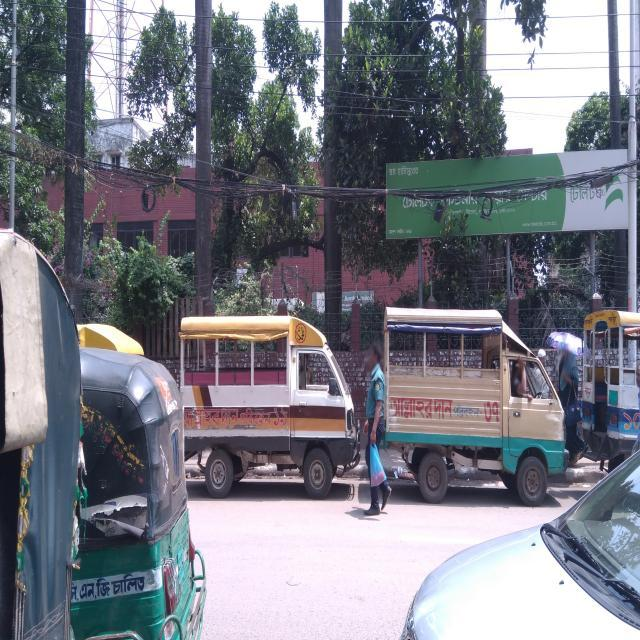Leguna: (179, 293, 361, 525), (382, 303, 578, 514)
